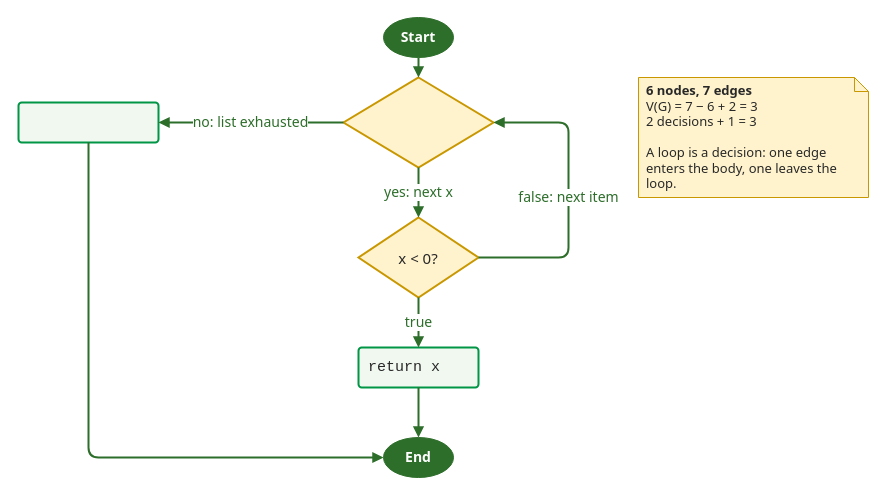
This 886x495 diagram has some shape labels left out. The shapes that lost their labels are listed below. From the top down, each one's centre as x and y in pixels, then its label:
pixel 88 122: return None
pixel 418 122: more items in xs?
